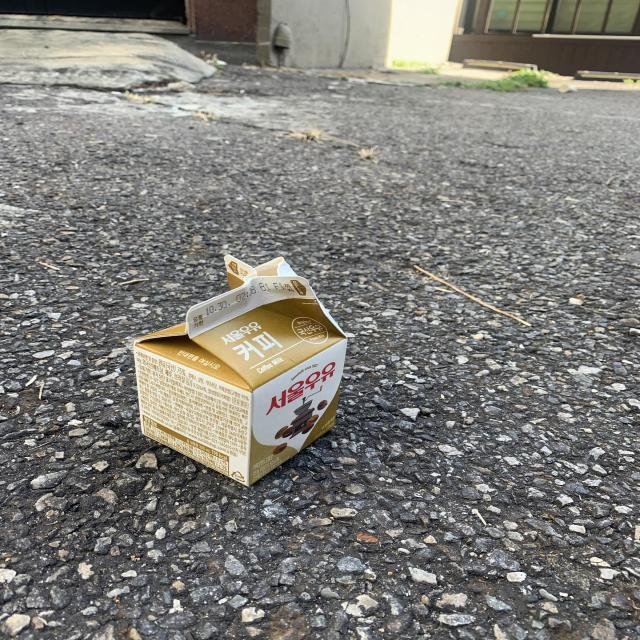paperpack: (133, 255, 347, 486)
